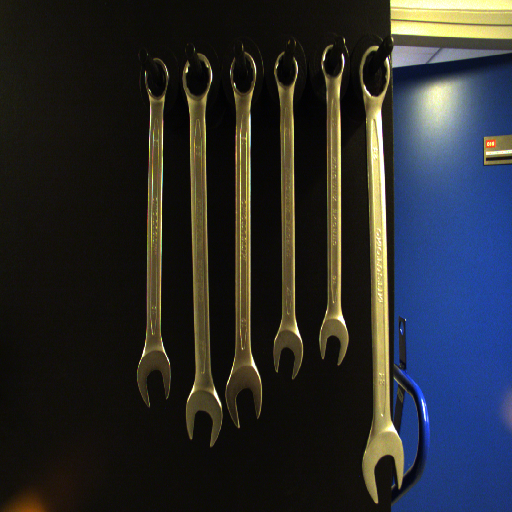bottom: (355, 429, 407, 504), (221, 365, 267, 435), (181, 385, 225, 447), (135, 346, 173, 413), (315, 315, 351, 369), (270, 330, 307, 382)
top: (357, 42, 390, 106), (179, 52, 215, 101), (140, 58, 174, 105), (226, 52, 258, 100), (272, 48, 304, 92), (318, 44, 349, 86)
